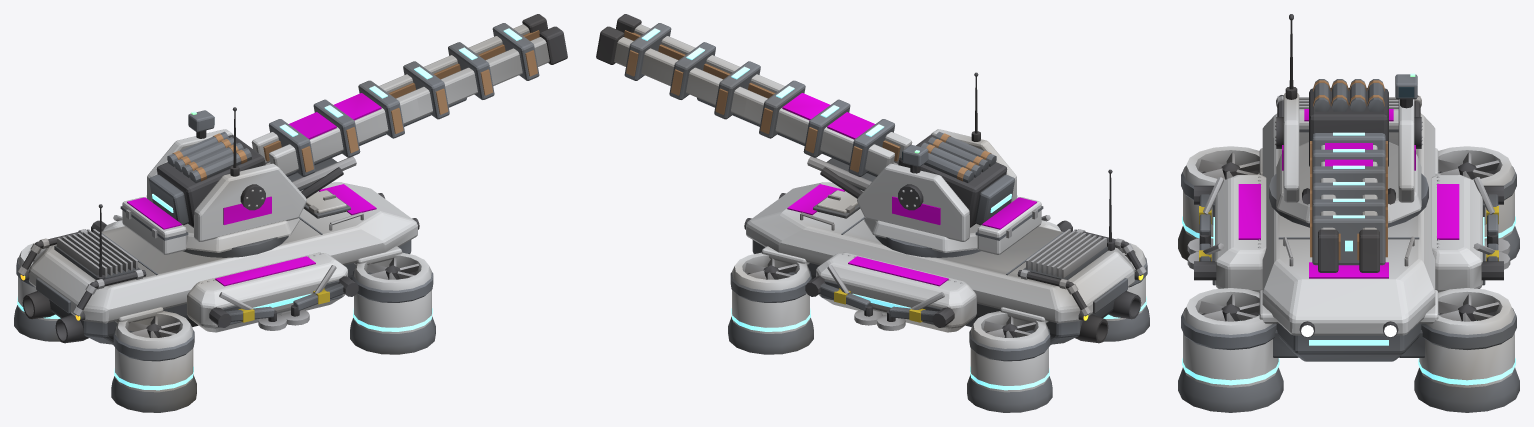
Rendered from rail_cannon.glb.
3 views of the same model, side by side, from view 1: azimuth 30°, elevation 25°; view 2: azimuth 150°, elevation 25°; view 3: azimuth 270°, elevation 25° (orthographic). The views are drawn at different scales.
Parts seen in each view (by area): view 1: Body, Barrel, Turret; view 2: Body, Barrel, Turret; view 3: Body, Barrel, Turret.
Part boxes in pixels (x1=…): Body: x1=14, y1=182, x2=435, y2=412; Barrel: x1=149, y1=14, x2=567, y2=227; Turret: x1=120, y1=107, x2=356, y2=257; Body: x1=728, y1=169, x2=1149, y2=412; Barrel: x1=596, y1=14, x2=1014, y2=227; Turret: x1=807, y1=72, x2=1043, y2=257; Body: x1=1178, y1=14, x2=1519, y2=412; Barrel: x1=1309, y1=79, x2=1388, y2=272; Turret: x1=1269, y1=15, x2=1428, y2=227.
Bounding box in the file's own units: 4.49 × 2.05 × 2.14.
1 material, 1 textured.
